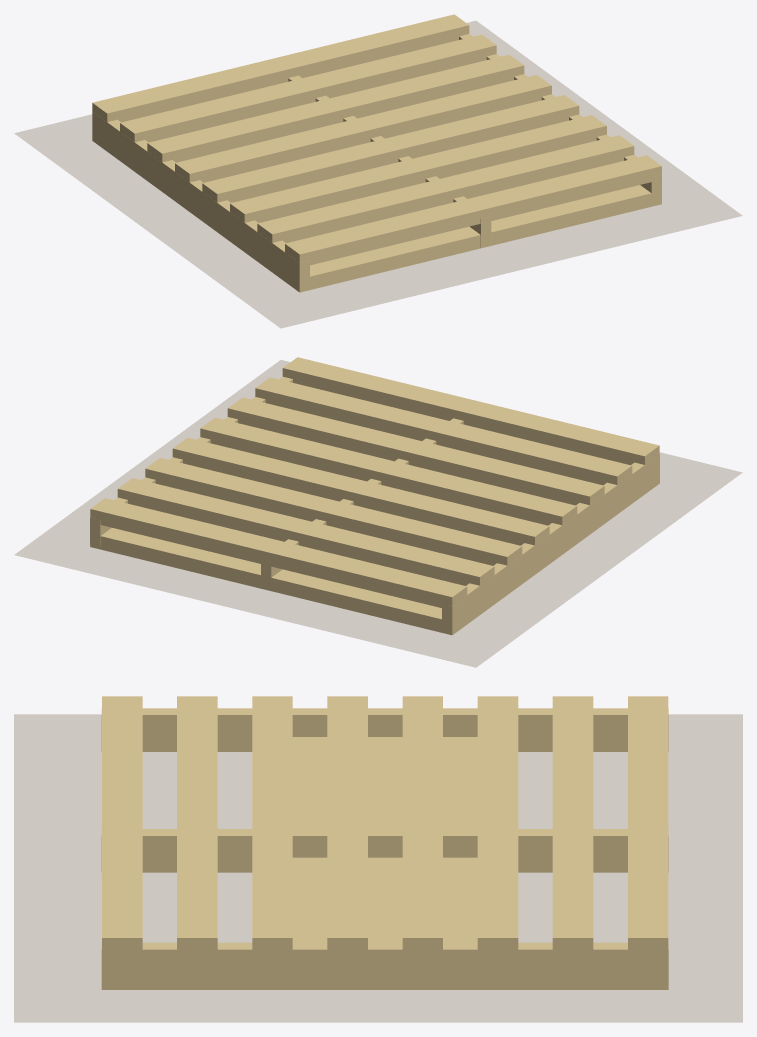
File: Pallet.fbx
3 renders of one model, top to bottom at view 1: azimuth 30°, elevation 25°; view 2: azimuth 150°, elevation 25°; view 3: azimuth 270°, elevation 25°, orthographic. The views are drawn at different scales.
Visible parts, largest first — view 1: Cube.005, Plane, Cube.002, Cube.004, Cube.003; view 2: Cube.005, Plane, Cube.002, Cube.004, Cube.003; view 3: Plane, Cube.005, Cube.004, Cube.001, Cube.003, Cube.
Boxes of the visible parts, box(x1,y1,x2,y2) form: Cube.005: box(92, 14, 661, 265); Plane: box(14, 20, 742, 328); Cube.002: box(299, 185, 661, 292); Cube.004: box(92, 34, 661, 292); Cube.003: box(288, 75, 491, 247); Cube.005: box(90, 357, 659, 607); Plane: box(14, 360, 742, 667); Cube.002: box(90, 528, 452, 635); Cube.004: box(90, 376, 659, 634); Cube.003: box(261, 418, 463, 588); Plane: box(14, 714, 742, 1022); Cube.005: box(102, 696, 668, 949); Cube.004: box(101, 708, 668, 989); Cube.001: box(292, 737, 477, 942); Cube.003: box(101, 829, 668, 872); Cube: box(368, 737, 402, 942).
Size of the model in its own units: 600 by 47.72 by 600.
